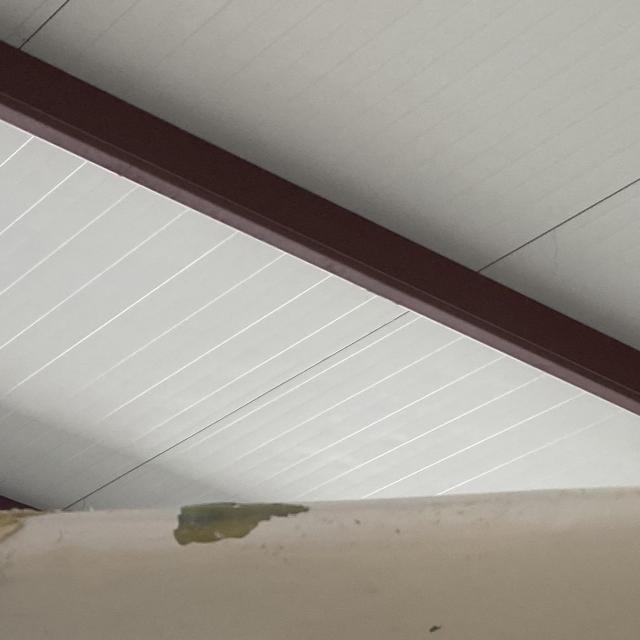Paint-off: (172, 501, 307, 544), (0, 508, 47, 541)
